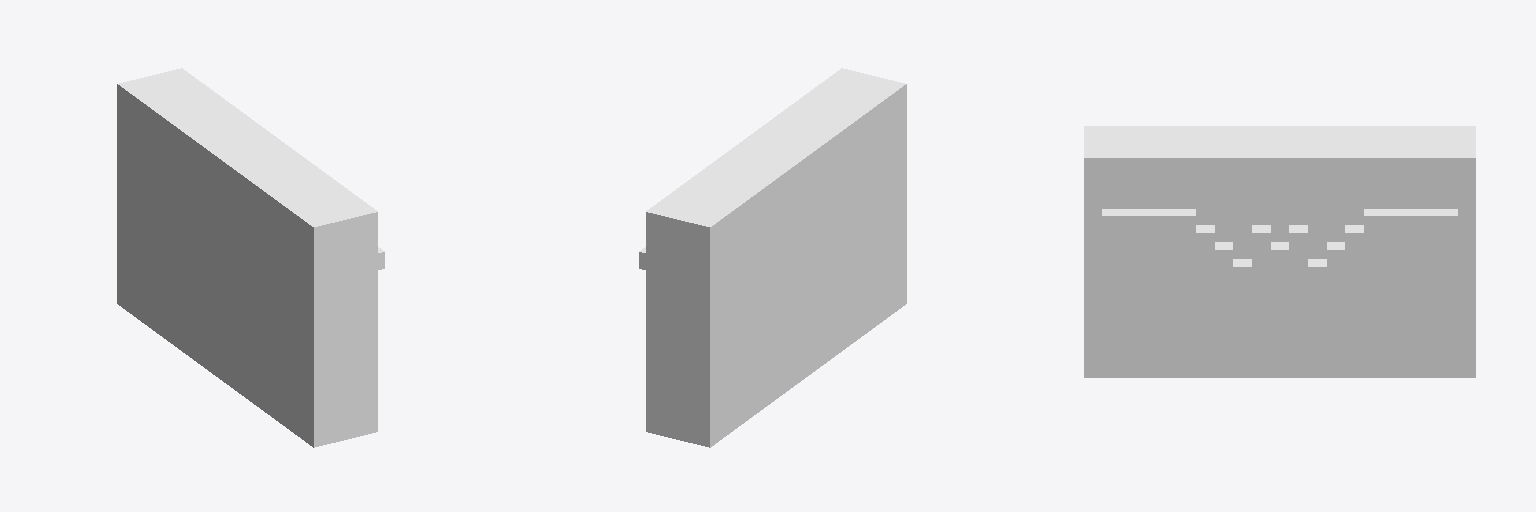
The model's file is RSignal.obj.
The picture shows the model from 3 angles: view 1: azimuth 30°, elevation 25°; view 2: azimuth 150°, elevation 25°; view 3: azimuth 270°, elevation 25°; orthographic projection.
Parts seen in each view (by area): view 1: object 1; view 2: object 1; view 3: object 1.
Part boxes in pixels (left/top/right/bottom): object 1: left=117, top=68, right=384, bottom=447; object 1: left=639, top=68, right=906, bottom=447; object 1: left=1084, top=126, right=1475, bottom=377.
Bounding box in the file's own units: 0.5 × 1.3 × 2.1.